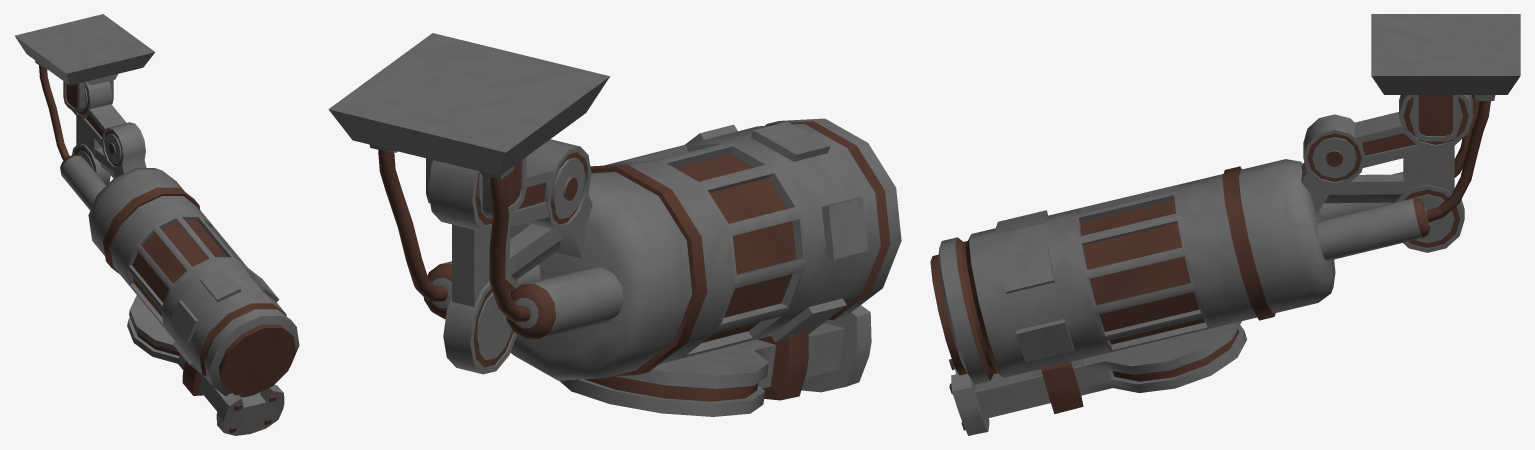
The model's file is BigMachine.fbx.
3 renders of one model, left to right at view 1: azimuth 30°, elevation 25°; view 2: azimuth 150°, elevation 25°; view 3: azimuth 270°, elevation 25°, orthographic. The views are drawn at different scales.
Visible parts, largest first — view 1: Cube.069; view 2: Cube.069; view 3: Cube.069.
Part boxes in pixels (left/top/right/bottom): Cube.069: left=15, top=14, right=299, bottom=435; Cube.069: left=328, top=33, right=901, bottom=416; Cube.069: left=930, top=14, right=1520, bottom=435.
Bounding box in the file's own units: 214 × 568 × 792.
